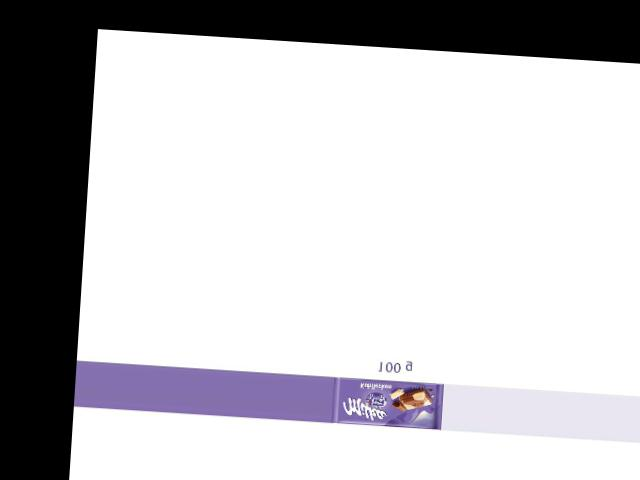chocolate: (331, 375, 444, 430)
